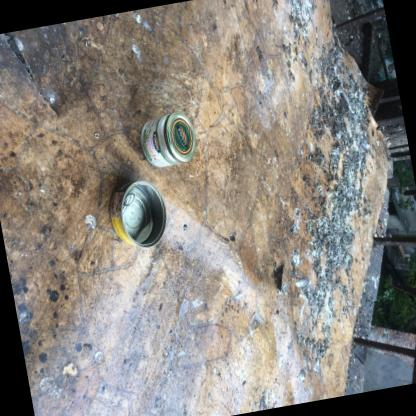Glass: (140, 111, 195, 168)
Metal: (109, 180, 165, 248), (162, 111, 195, 162), (122, 193, 134, 206), (124, 194, 133, 204)
